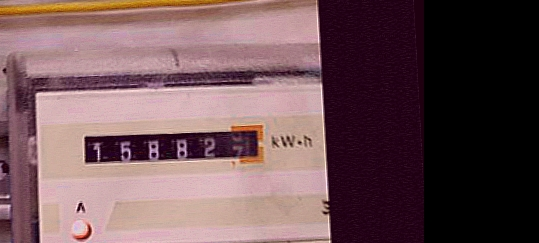1: (90, 139, 105, 162)
2: (201, 135, 218, 160)
5: (118, 138, 133, 164)
7: (231, 141, 244, 158)
8: (174, 137, 189, 161), (146, 138, 160, 162)
screen: (74, 116, 274, 182)
